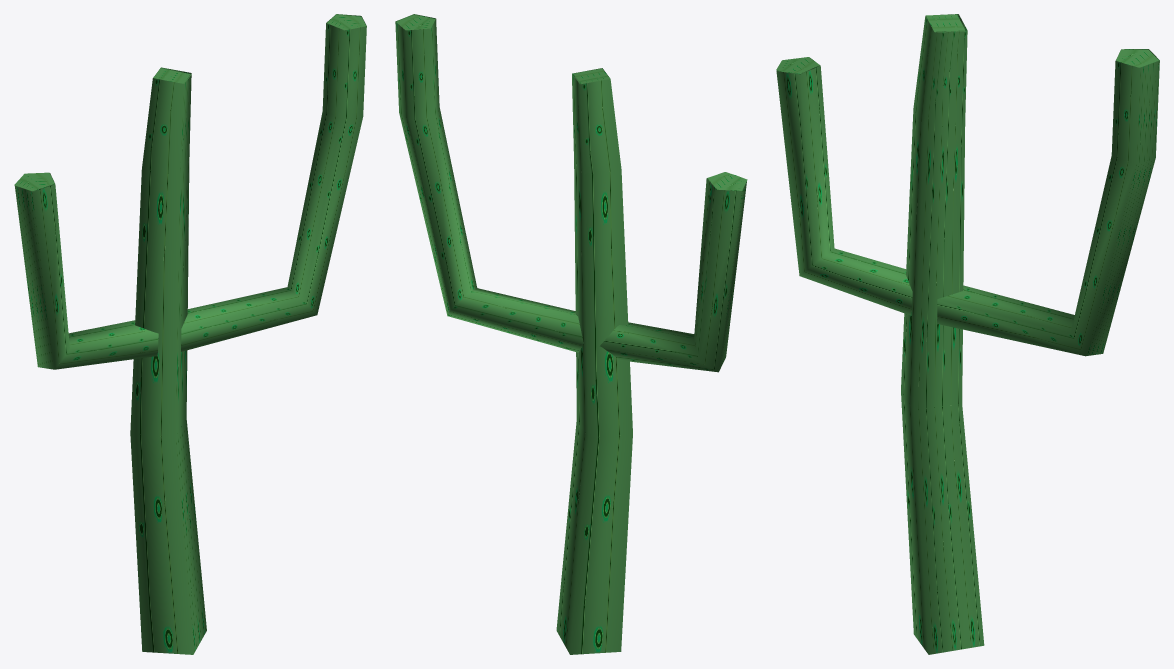
File: cactus.fbx
3 views of the same model, side by side, from view 1: azimuth 30°, elevation 25°; view 2: azimuth 150°, elevation 25°; view 3: azimuth 330°, elevation 25° (orthographic). The views are drawn at different scales.
Parts seen in each view (by area): view 1: polySurface1; view 2: polySurface1; view 3: polySurface1.
Part boxes in pixels (x1,y1,x2,y2): polySurface1: [14, 14, 366, 654]; polySurface1: [395, 14, 747, 654]; polySurface1: [776, 14, 1159, 654].
Bounding box in the file's own units: 1.21 × 1.93 × 0.2257.
1 material, 1 textured.
